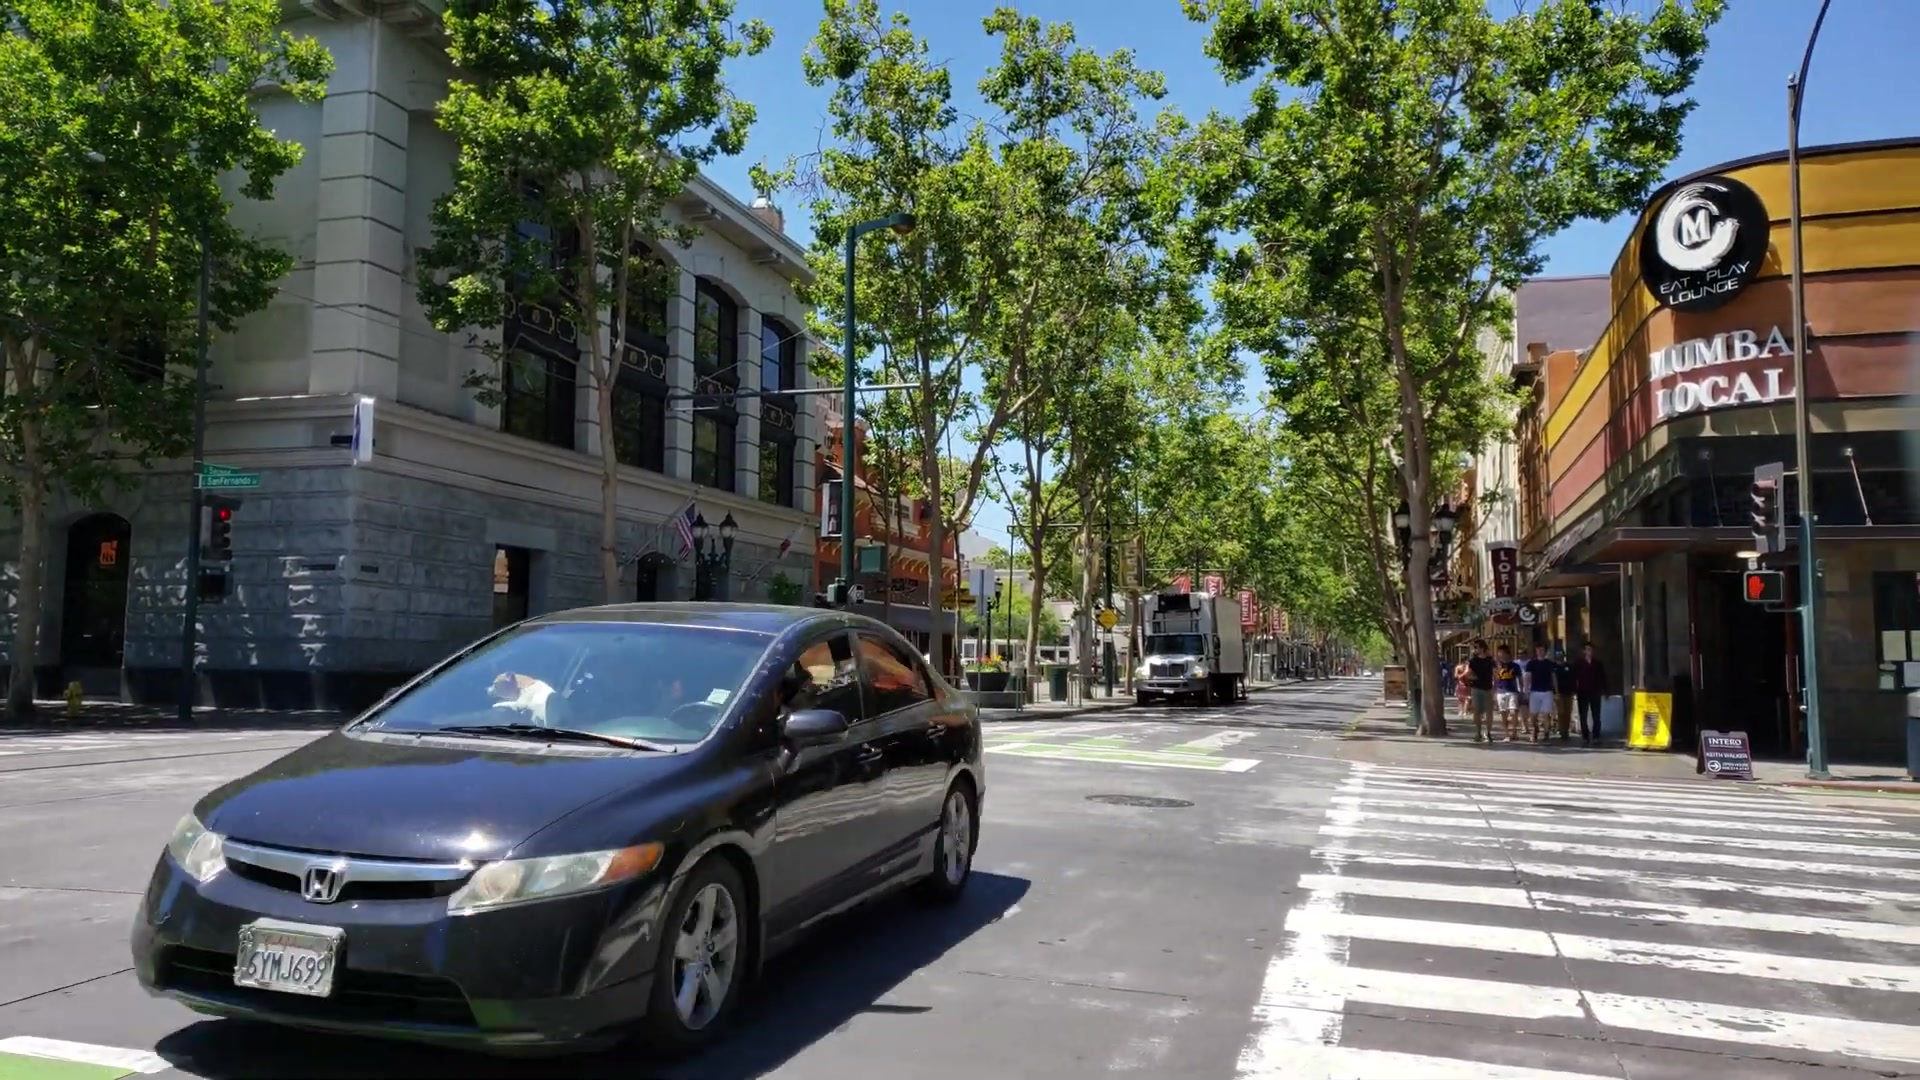vehicle: (131, 601, 988, 1051), (1137, 593, 1247, 709)
